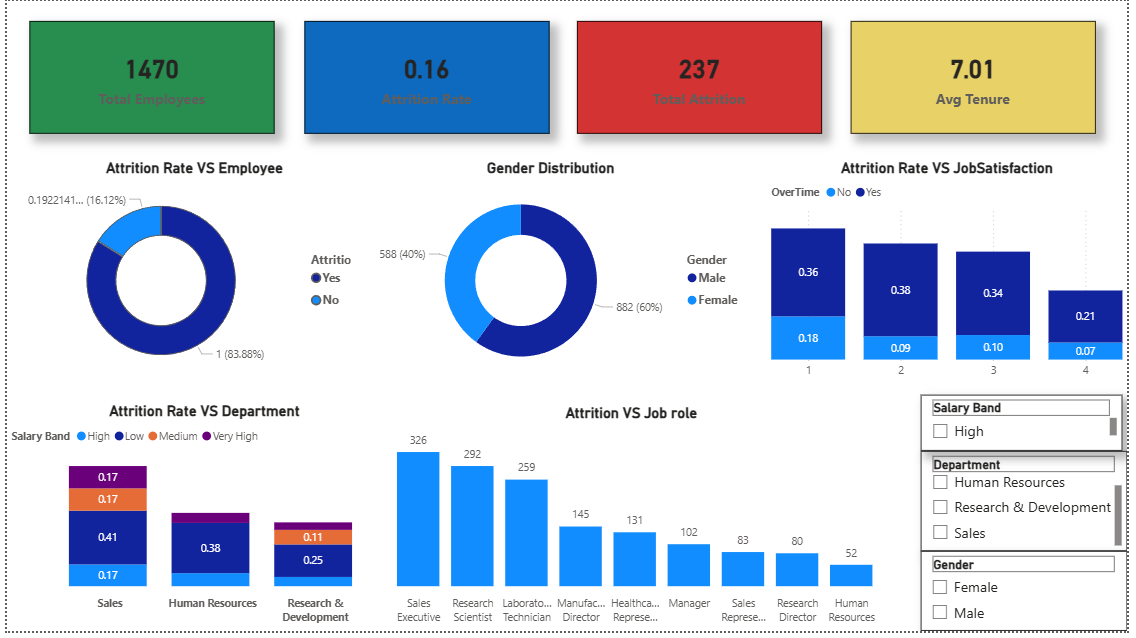

What the dashboard file says about the page in this screenshot:
{"tool":"powerbi","page":{"name":"Page 1","canvas":[1280,720],"ordinal":0},"visuals":[{"type":"card","fields":{"Values":["HR_Employee_Data.Total Employees"]},"box":[26.1,23.3,279.9,129],"z":0},{"type":"card","fields":{"Values":["HR_Employee_Data.Attrition Rate"]},"box":[340.3,23.3,279.9,129],"z":1},{"type":"card","fields":{"Values":["HR_Employee_Data.Total Attrition"]},"box":[651.8,23.3,279.9,129],"z":2},{"type":"card","fields":{"Values":["HR_Employee_Data.Avg Tenure"]},"box":[964.7,23.3,279.9,129],"z":3},{"type":"donutChart","title":"Attrition Rate VS Employee","fields":{"Category":["HR_Employee_Data.Attrition"],"Y":["HR_Employee_Data.Attrition Rate"]},"box":[0,180,428.6,260],"z":4},{"type":"columnChart","title":"Attrition Rate VS Department","fields":{"Category":["HR_Employee_Data.Department"],"Series":["HR_Employee_Data.Salary Band"],"Y":["HR_Employee_Data.Attrition Rate"]},"box":[0,458.6,451.4,261.4],"z":5},{"type":"columnChart","title":"Attrition VS Job role","fields":{"Category":["HR_Employee_Data.JobRole"],"Y":["CountNonNull(HR_Employee_Data.Attrition)"]},"box":[407.1,460,612.9,260],"z":6},{"type":"donutChart","title":"Gender Distribution","fields":{"Category":["HR_Employee_Data.Gender"],"Y":["CountNonNull(HR_Employee_Data.Gender)"]},"box":[392.9,180,457.1,260],"z":7},{"type":"columnChart","title":"Attrition Rate VS JobSatisfaction","fields":{"Y":["HR_Employee_Data.Attrition Rate"],"Category":["HR_Employee_Data.JobSatisfaction"],"Series":["HR_Employee_Data.OverTime"]},"box":[868.6,180,411.4,260],"z":8},{"type":"slicer","fields":{"Values":["HR_Employee_Data.Department"]},"box":[1044.3,514.3,235.7,114.3],"z":9},{"type":"slicer","fields":{"Values":["HR_Employee_Data.Gender"]},"box":[1044.3,628.6,235.7,91.4],"z":10},{"type":"slicer","fields":{"Values":["HR_Employee_Data.Salary Band"]},"box":[1044.3,450,230,64.3],"z":11}]}

Visuals, with their boxes in screenshot pixels (x1, y1, x2, y2), scaled from the page's 1280x720 canvas onto the 1136x638 screenshot:
card - HR_Employee_Data.Total Employees: BBox(23, 21, 272, 135)
card - HR_Employee_Data.Attrition Rate: BBox(302, 21, 550, 135)
card - HR_Employee_Data.Total Attrition: BBox(578, 21, 827, 135)
card - HR_Employee_Data.Avg Tenure: BBox(856, 21, 1105, 135)
"Attrition Rate VS Employee" donutChart: BBox(0, 160, 380, 390)
"Attrition Rate VS Department" columnChart: BBox(0, 406, 401, 637)
"Attrition VS Job role" columnChart: BBox(361, 408, 905, 637)
"Gender Distribution" donutChart: BBox(349, 160, 754, 390)
"Attrition Rate VS JobSatisfaction" columnChart: BBox(771, 160, 1135, 390)
slicer - HR_Employee_Data.Department: BBox(927, 456, 1135, 557)
slicer - HR_Employee_Data.Gender: BBox(927, 557, 1135, 637)
slicer - HR_Employee_Data.Salary Band: BBox(927, 399, 1131, 456)
